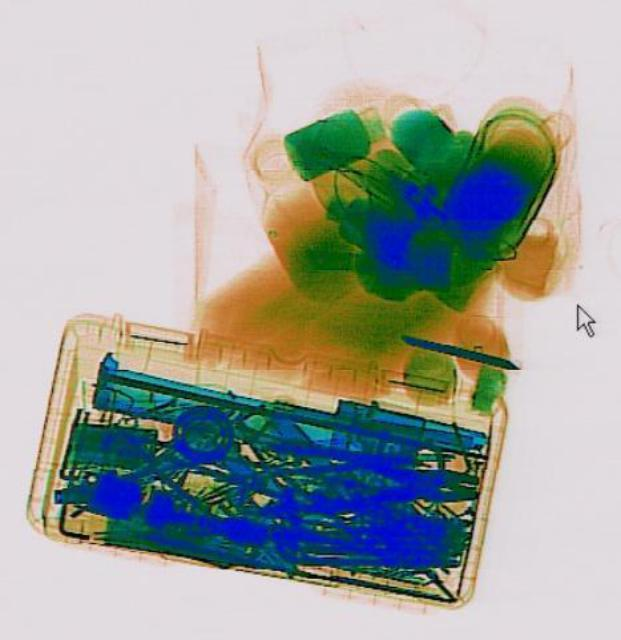Pliers: (257, 439, 478, 519)
